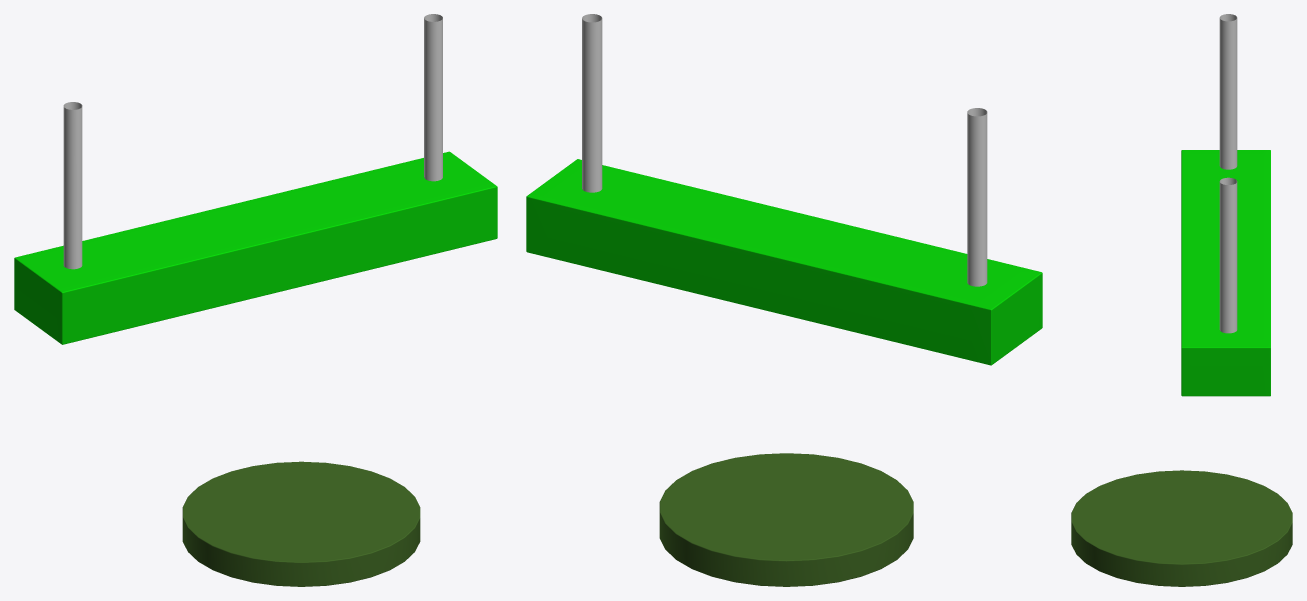
File: ceilinglights_.fbx
3 views of the same model, side by side, from view 1: azimuth 30°, elevation 25°; view 2: azimuth 150°, elevation 25°; view 3: azimuth 270°, elevation 25° (orthographic). The views are drawn at different scales.
Visible parts, largest first — view 1: pCube8, basic_ceiling_light_high, pCylinder1, pCylinder2; view 2: pCube8, basic_ceiling_light_high, pCylinder1, pCylinder2; view 3: basic_ceiling_light_high, pCube8, pCylinder2, pCylinder1.
Boxes of the visible parts, x1,y1,x2,y2 form: pCube8: (14,151,497,344); basic_ceiling_light_high: (182,461,420,586); pCylinder1: (63,102,82,269); pCylinder2: (424,14,442,181); pCube8: (526,159,1042,365); basic_ceiling_light_high: (659,453,913,586); pCylinder1: (967,108,987,286); pCylinder2: (582,14,602,192); basic_ceiling_light_high: (1071,470,1292,586); pCube8: (1181,150,1270,396); pCylinder2: (1219,177,1237,333); pCylinder1: (1219,14,1237,169).
Bounding box in the file's own units: 114 × 115 × 53.82.
